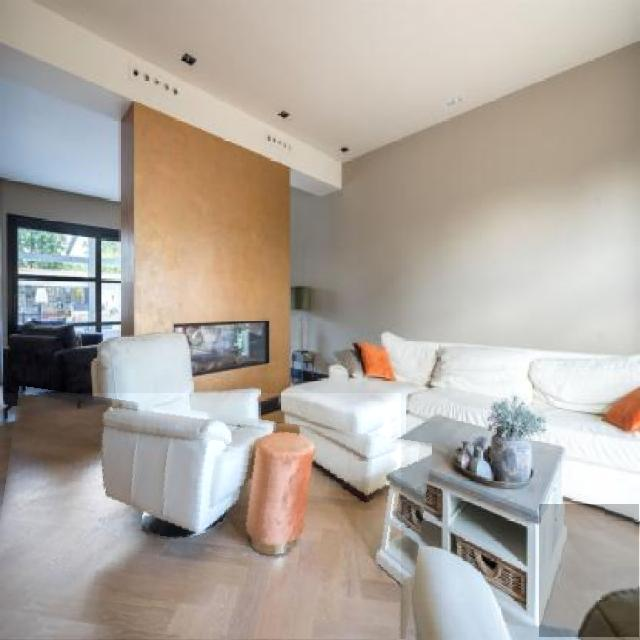floor: (0, 393, 401, 640), (539, 505, 639, 637)
